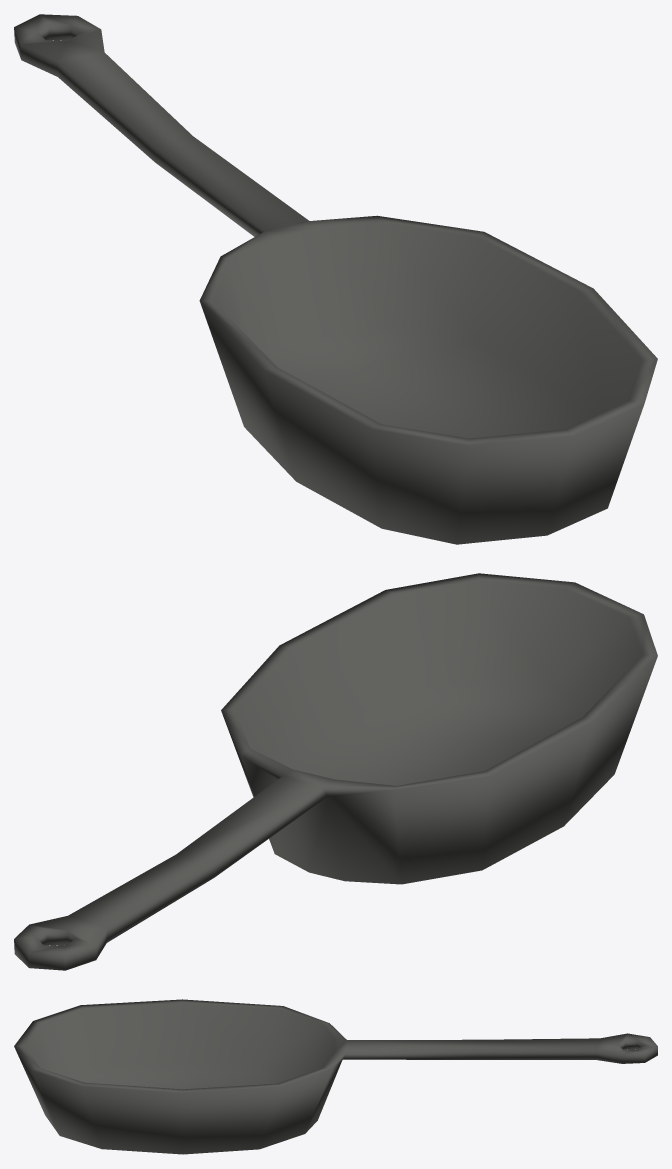
Rendered from rpgpp_ag_pan_01.fbx.
The picture shows the model from 3 angles, top to bottom: view 1: azimuth 30°, elevation 25°; view 2: azimuth 150°, elevation 25°; view 3: azimuth 270°, elevation 25°; orthographic projection. The views are drawn at different scales.
Visible parts, largest first — view 1: rpgpp_ag_pan_01; view 2: rpgpp_ag_pan_01; view 3: rpgpp_ag_pan_01.
Part boxes in pixels (x1,y1,x2,y2): rpgpp_ag_pan_01: [14, 14, 657, 544]; rpgpp_ag_pan_01: [14, 573, 657, 970]; rpgpp_ag_pan_01: [14, 999, 657, 1154].
Bounding box in the file's own units: 0.2293 × 0.0855 × 0.6661.
